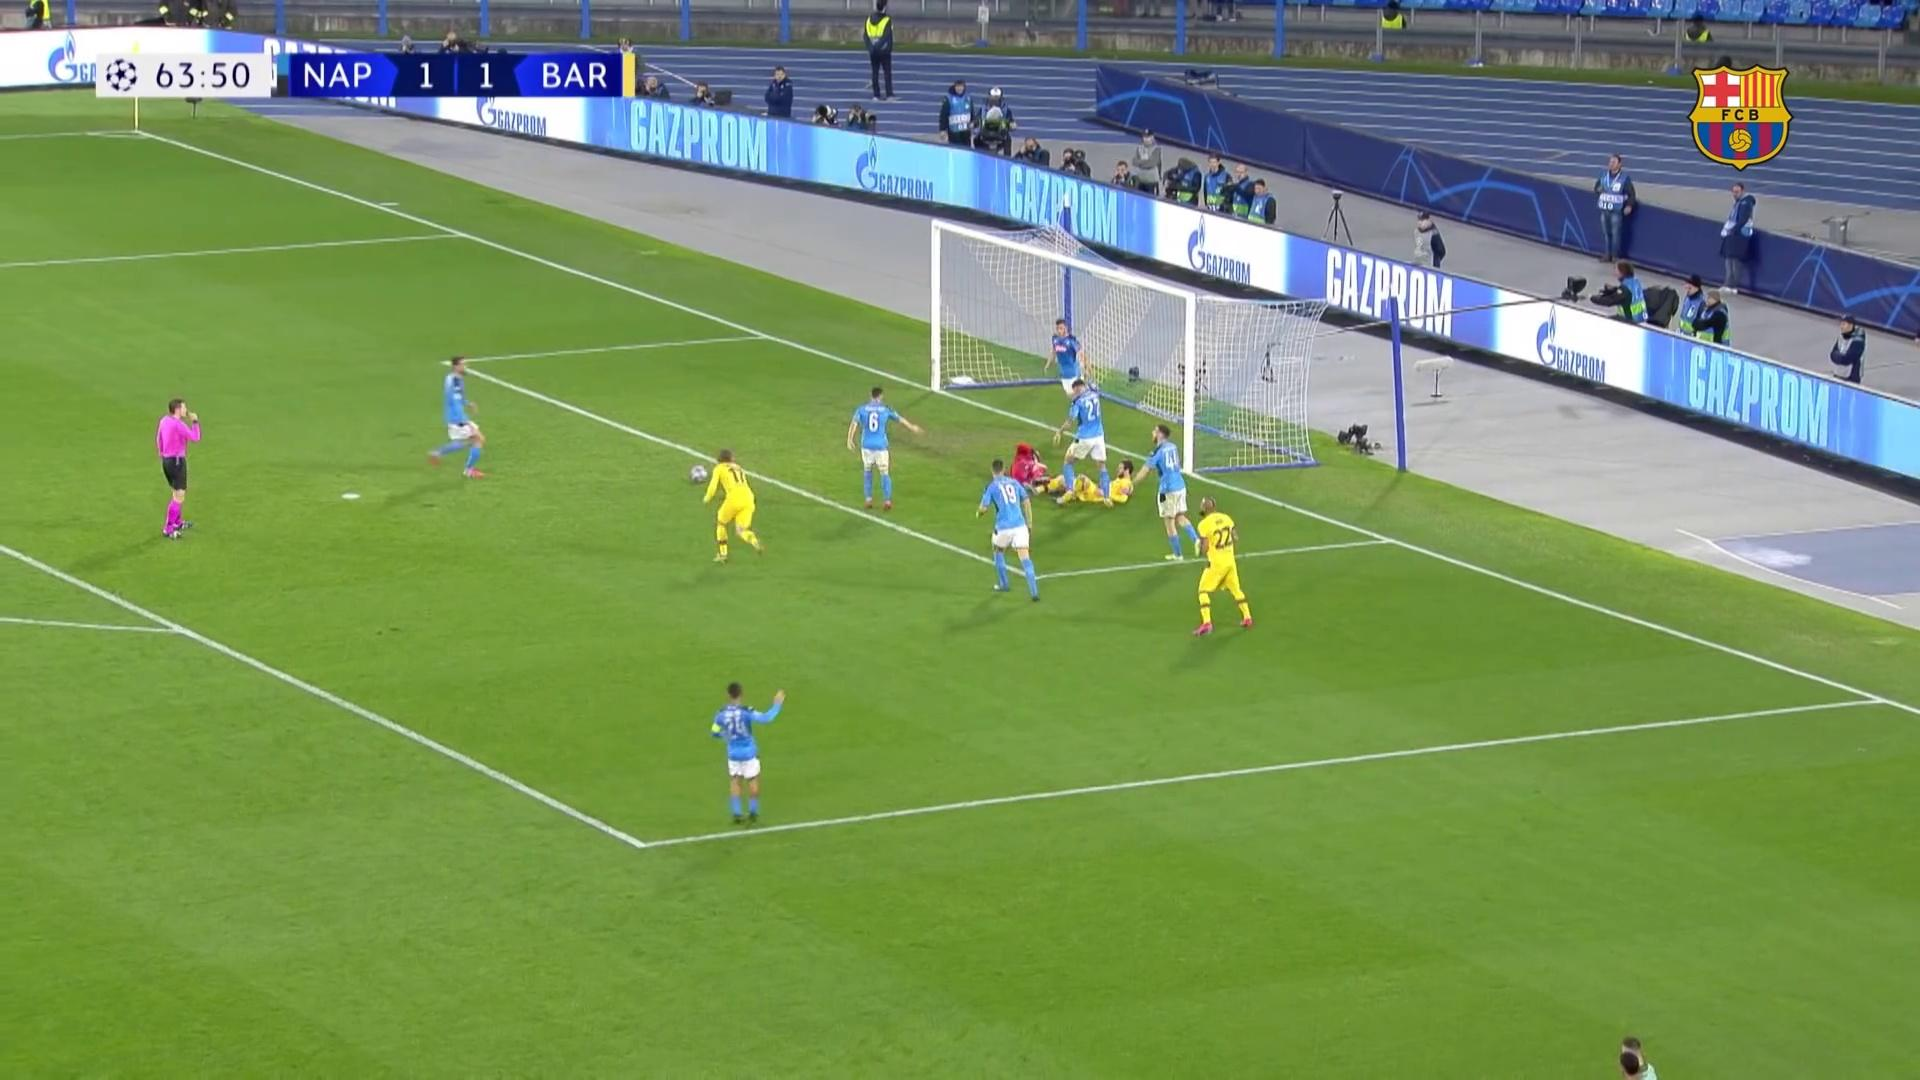ball: (687, 461, 708, 486)
goalkeeper: (1008, 440, 1049, 502)
player: (705, 679, 790, 833), (1124, 420, 1204, 564), (844, 379, 924, 516), (1189, 495, 1262, 641), (982, 451, 1050, 604), (426, 354, 496, 481), (699, 444, 768, 565), (1058, 376, 1112, 507), (1042, 315, 1093, 433), (1026, 459, 1135, 508)
referee: (148, 394, 205, 543)
